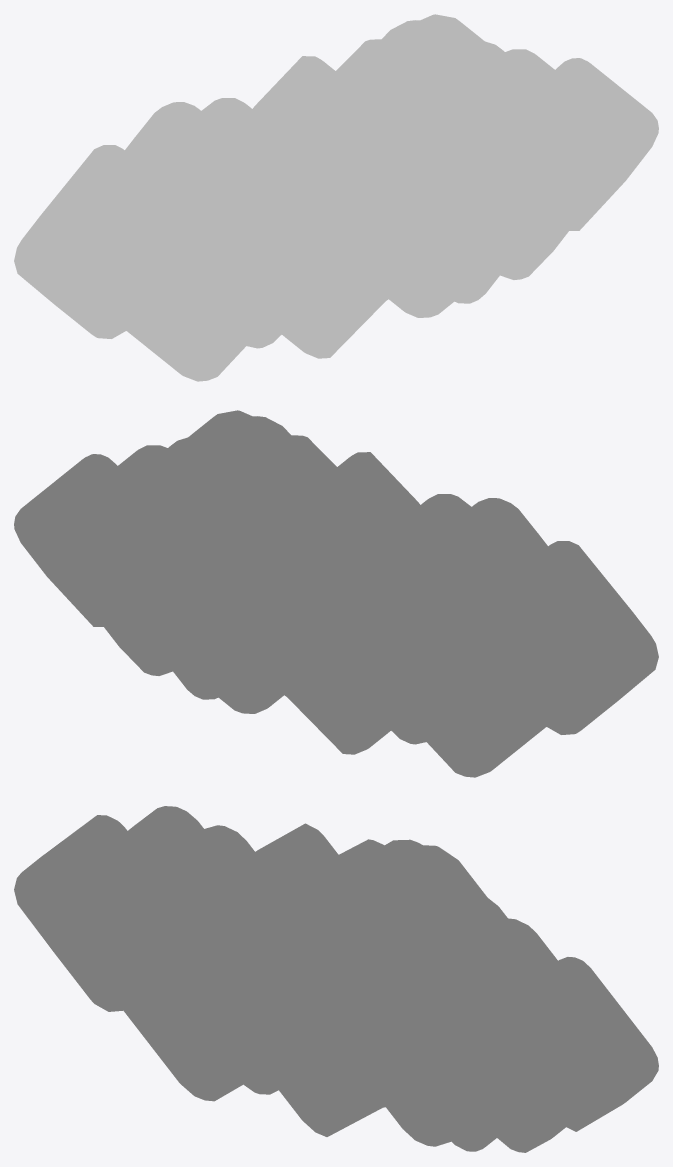
Rendered from Cloud_1.obj.
3 views of the same model, one above another, from view 1: azimuth 30°, elevation 25°; view 2: azimuth 150°, elevation 25°; view 3: azimuth 330°, elevation 25° (orthographic).
Parts seen in each view (by area): view 1: Cloud_1; view 2: Cloud_1; view 3: Cloud_1.
Part boxes in pixels (box(x1,y1,x2,y2)): Cloud_1: box(14, 14, 658, 381); Cloud_1: box(14, 410, 658, 777); Cloud_1: box(14, 806, 658, 1152).
Size of the model in its own units: 33.04 by 15.5 by 0.2723.
1 material, 1 textured.
